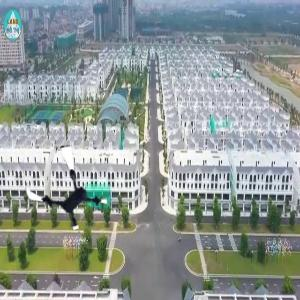drone: (26, 147, 110, 231)
